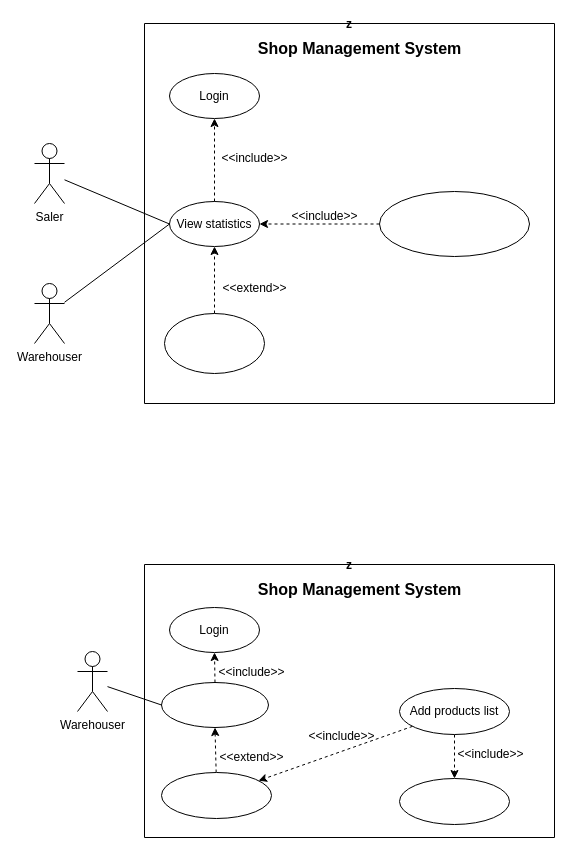
Some shapes in this 572 by 855 pixel diagram are drawn without their labels. Here are the shapes that lost their labels. From the top down, the centre of each, then its label:
pixel 454 223: Select statistics type by day/month
pixel 214 343: Print statistics
pixel 214 705: View this day input
pixel 216 795: Enter the input
pixel 454 801: Confirm input
